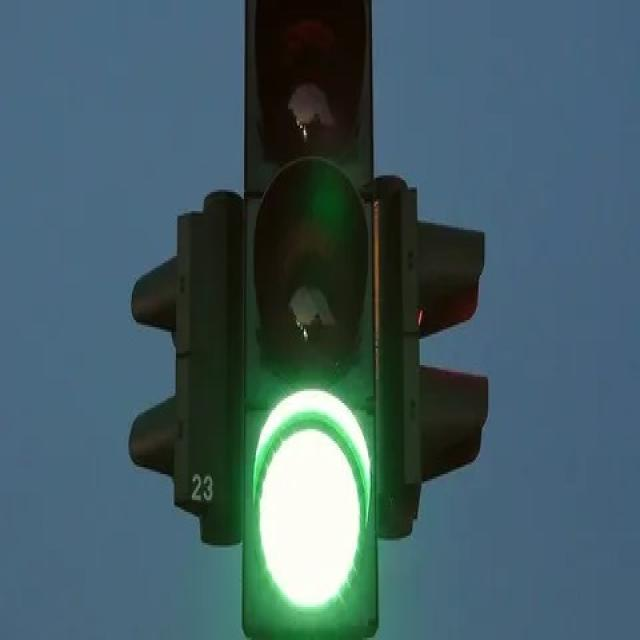yesil: (244, 0, 378, 634)
